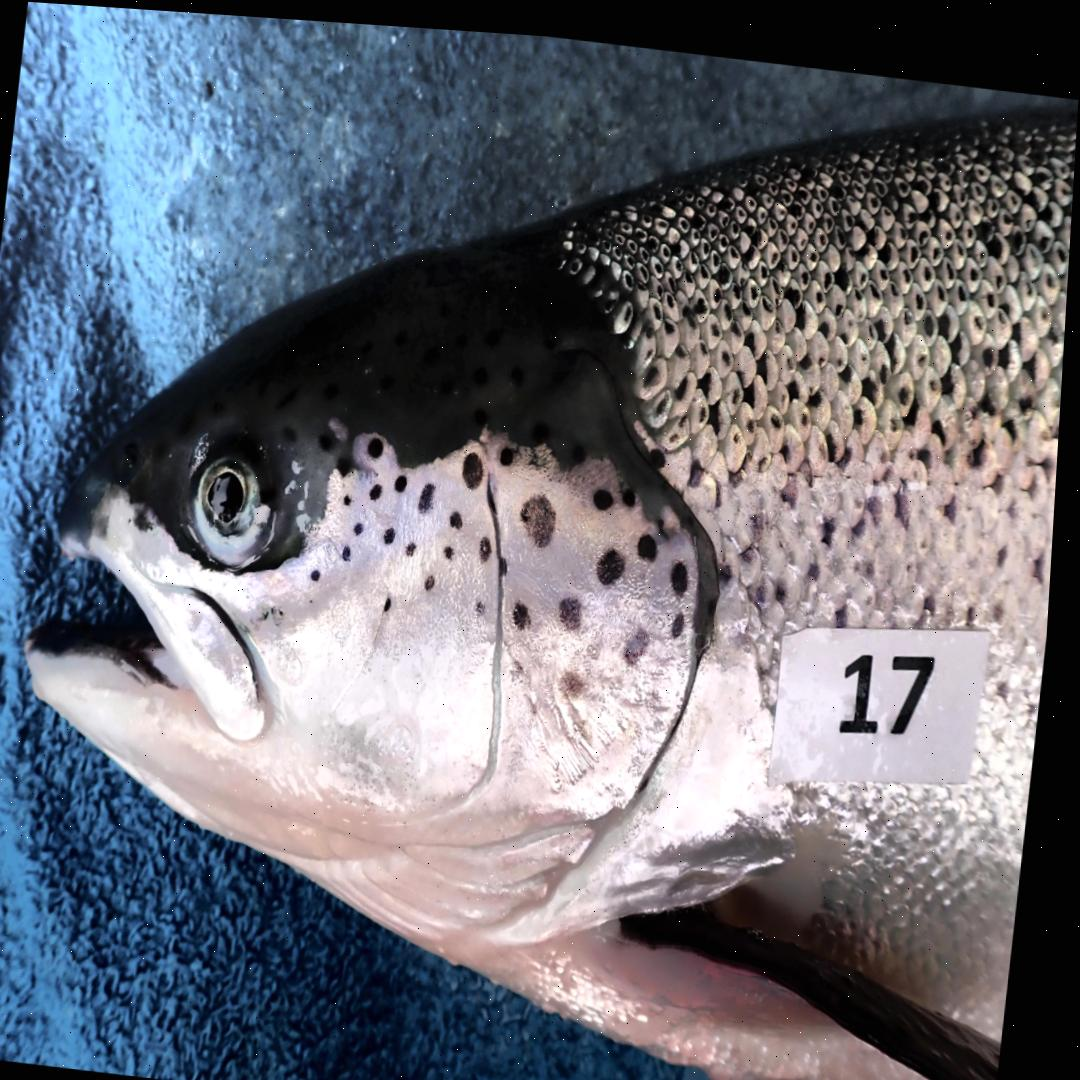spot: (526, 487, 562, 538), (602, 539, 632, 578), (631, 617, 656, 655), (565, 660, 594, 691), (512, 645, 537, 677), (566, 588, 589, 622), (468, 444, 489, 480), (677, 552, 695, 586), (519, 592, 538, 622), (424, 476, 439, 507), (644, 525, 662, 550), (599, 479, 618, 500), (371, 431, 390, 452), (485, 529, 498, 556), (504, 543, 515, 573), (626, 478, 643, 497), (678, 603, 691, 627), (505, 439, 519, 457), (399, 469, 413, 485), (454, 505, 468, 521), (347, 538, 357, 557), (376, 479, 388, 494), (316, 562, 328, 577), (481, 594, 493, 609), (411, 536, 423, 551), (389, 522, 401, 537), (430, 568, 442, 583), (449, 537, 460, 553), (389, 591, 399, 606), (359, 516, 371, 528), (348, 488, 358, 500)
